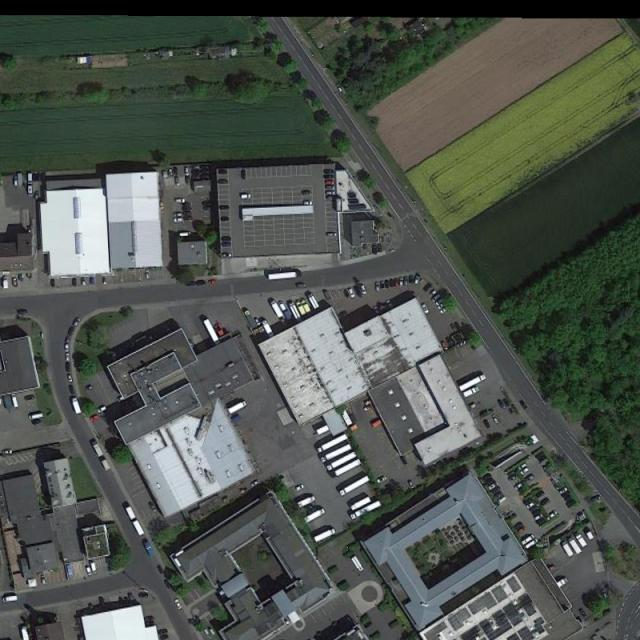vehicle: (320, 443, 354, 465), (326, 450, 358, 473), (316, 434, 350, 455), (340, 474, 371, 497), (456, 372, 489, 393), (351, 500, 382, 521), (350, 495, 372, 513), (314, 526, 337, 543), (304, 506, 326, 523), (266, 270, 303, 280), (260, 319, 277, 340), (460, 386, 481, 401), (296, 494, 318, 508), (566, 537, 582, 556), (559, 540, 574, 559), (289, 302, 303, 322), (228, 400, 247, 414), (270, 300, 284, 318), (70, 396, 83, 414), (519, 533, 535, 547), (574, 533, 587, 549), (91, 441, 103, 457), (19, 625, 31, 640), (100, 456, 112, 471), (296, 300, 306, 317), (525, 538, 538, 550), (29, 412, 45, 421), (3, 594, 19, 603), (302, 299, 311, 314), (347, 286, 356, 300), (11, 393, 19, 408), (26, 171, 34, 185), (2, 275, 9, 290), (90, 562, 98, 575), (26, 184, 34, 196), (174, 598, 182, 610), (514, 482, 526, 490), (23, 394, 35, 402), (86, 566, 93, 578), (150, 502, 158, 512), (208, 278, 218, 286), (278, 301, 286, 311), (440, 306, 450, 314), (507, 474, 517, 482), (326, 231, 339, 237), (295, 483, 306, 490), (195, 279, 206, 286), (519, 468, 530, 475), (534, 512, 545, 519), (50, 278, 56, 290), (489, 482, 498, 490), (518, 462, 527, 470), (536, 490, 545, 498), (549, 510, 558, 518), (2, 449, 14, 455), (69, 384, 76, 394), (422, 304, 429, 314), (432, 294, 442, 301), (408, 479, 415, 489), (498, 399, 505, 409), (484, 418, 491, 428), (523, 497, 533, 504), (540, 498, 550, 505), (174, 176, 180, 187), (492, 413, 498, 424), (486, 478, 494, 486), (526, 474, 534, 482), (74, 317, 81, 326), (66, 374, 73, 383), (90, 414, 99, 421), (442, 341, 449, 350), (503, 398, 510, 407), (558, 487, 567, 494), (360, 285, 366, 295), (174, 218, 184, 224), (304, 200, 314, 206), (34, 191, 40, 201), (68, 326, 74, 336), (378, 477, 388, 483), (218, 178, 228, 184), (241, 169, 247, 179), (220, 216, 230, 222), (302, 190, 312, 196), (408, 274, 414, 284), (414, 275, 420, 285), (435, 298, 443, 305), (438, 302, 446, 309), (175, 198, 186, 203), (222, 252, 233, 257), (160, 200, 165, 211), (41, 575, 46, 586), (221, 236, 232, 241), (324, 169, 335, 174), (398, 277, 404, 286), (64, 362, 70, 371), (218, 169, 227, 175), (325, 179, 334, 185), (482, 474, 491, 480), (601, 589, 607, 598), (13, 176, 18, 186), (185, 166, 190, 176), (90, 276, 95, 286), (65, 343, 70, 353), (220, 205, 230, 210), (64, 336, 71, 343), (429, 289, 436, 296), (240, 194, 252, 198), (98, 406, 106, 412), (174, 211, 182, 217), (401, 457, 407, 465), (526, 502, 534, 508), (145, 270, 150, 279), (102, 276, 107, 285), (81, 277, 86, 286), (72, 278, 77, 287), (325, 190, 334, 195), (297, 283, 306, 288), (323, 174, 334, 178), (251, 480, 258, 486), (396, 278, 400, 288), (376, 283, 381, 291), (174, 166, 178, 176), (65, 354, 70, 362), (222, 242, 232, 246), (326, 185, 334, 190), (390, 278, 394, 287), (168, 168, 172, 177), (337, 85, 342, 92), (406, 275, 409, 286), (385, 280, 389, 288), (380, 282, 385, 288)
